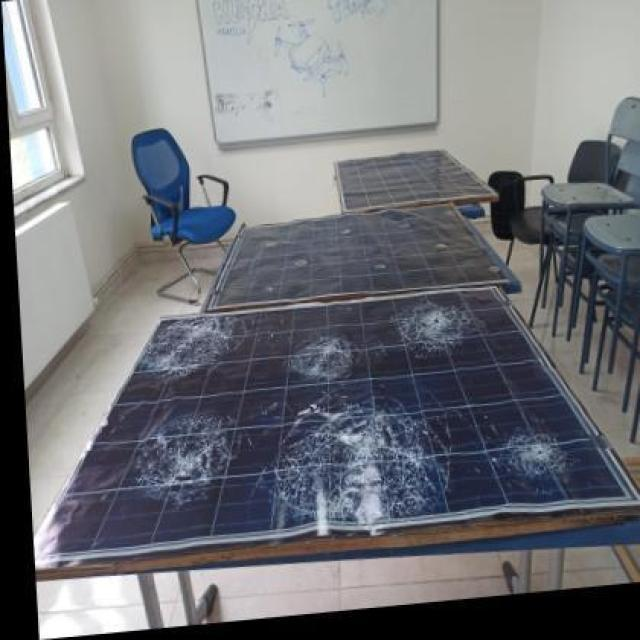cracked: (38, 300, 594, 573)
soiled: (207, 214, 518, 290)
